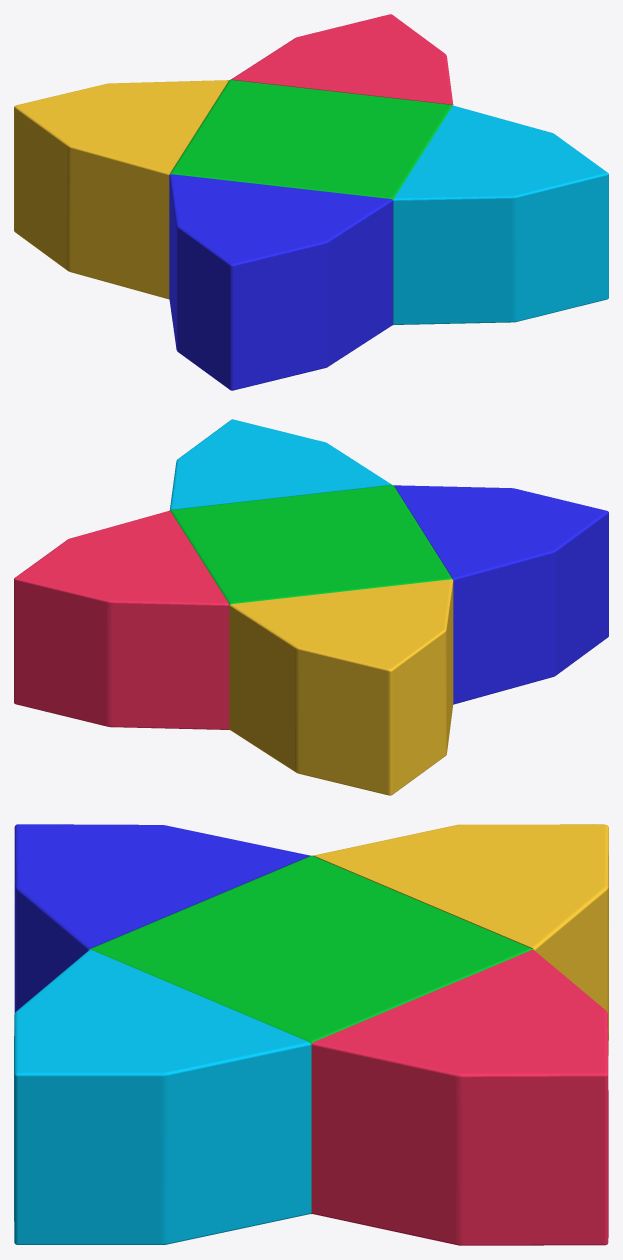
The model's file is flixel.obj.
The picture shows the model from 3 angles, top to bottom: view 1: azimuth 30°, elevation 25°; view 2: azimuth 150°, elevation 25°; view 3: azimuth 270°, elevation 25°; orthographic projection. The views are drawn at different scales.
Visible parts, largest first — view 1: Top_Right, Bottom_Right, Top_Left, Center, Bottom_Left; view 2: Top_Left, Bottom_Left, Top_Right, Center, Bottom_Right; view 3: Bottom_Left, Bottom_Right, Center, Top_Left, Top_Right.
Part boxes in pixels (bbox=[...]): Top_Right: bbox=[169, 174, 393, 390]; Bottom_Right: bbox=[393, 105, 608, 324]; Top_Left: bbox=[14, 80, 229, 299]; Center: bbox=[169, 80, 452, 324]; Bottom_Left: bbox=[230, 14, 453, 104]; Top_Left: bbox=[229, 579, 453, 795]; Bottom_Left: bbox=[14, 510, 229, 729]; Top_Right: bbox=[394, 485, 608, 704]; Center: bbox=[170, 485, 452, 729]; Bottom_Right: bbox=[170, 419, 391, 509]; Bottom_Left: bbox=[311, 950, 608, 1245]; Bottom_Right: bbox=[14, 949, 311, 1244]; Center: bbox=[89, 855, 533, 1214]; Top_Left: bbox=[313, 824, 608, 1055]; Top_Right: bbox=[14, 824, 310, 1012].
Size of the model in its own units: 100 by 32.2 by 100.
Materials: 1 (1 with a texture image).
